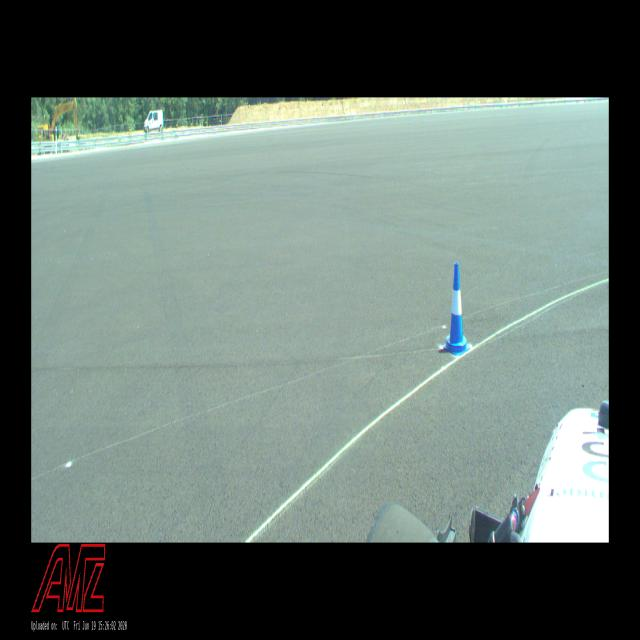blue_cone: (443, 262, 470, 356)
